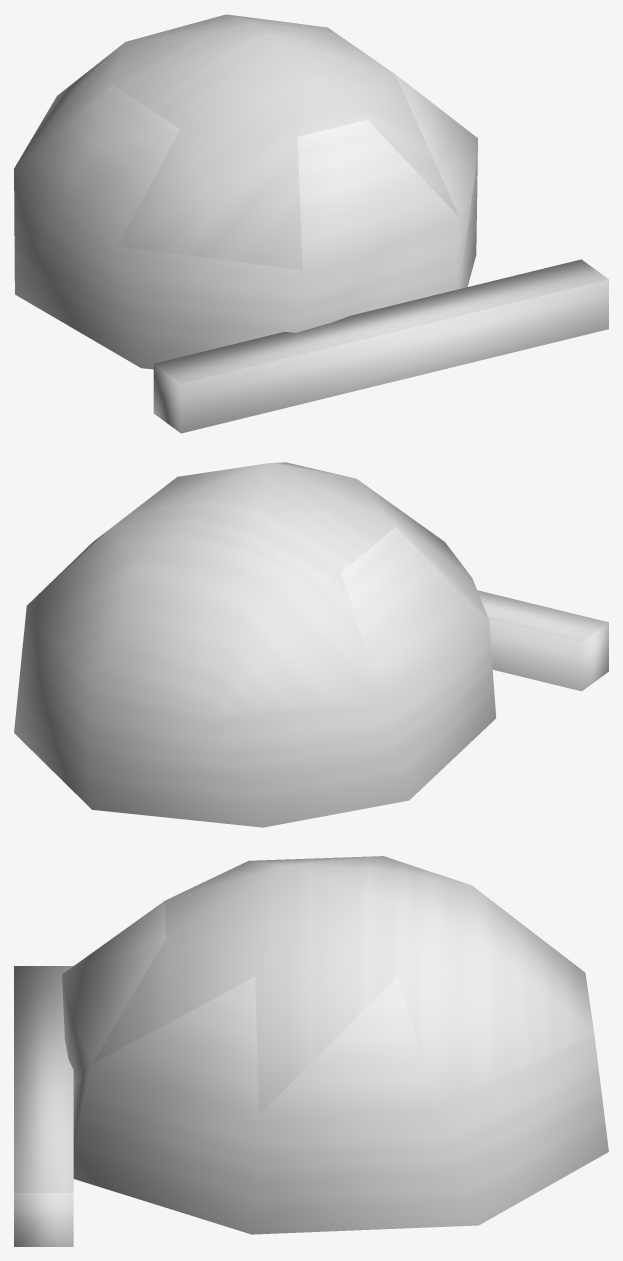
File: helmet.obj
3 renders of one model, top to bottom at view 1: azimuth 30°, elevation 25°; view 2: azimuth 150°, elevation 25°; view 3: azimuth 270°, elevation 25°, orthographic. The views are drawn at different scales.
Visible parts, largest first — view 1: helmet_part_01, helmet_part_02; view 2: helmet_part_01, helmet_part_02; view 3: helmet_part_01, helmet_part_02.
Part boxes in pixels (left/top/right/bottom): helmet_part_01: left=14, top=14, right=477, bottom=369; helmet_part_02: left=153, top=259, right=608, bottom=433; helmet_part_01: left=14, top=462, right=496, bottom=827; helmet_part_02: left=477, top=590, right=608, bottom=691; helmet_part_01: left=62, top=856, right=608, bottom=1234; helmet_part_02: left=14, top=966, right=73, bottom=1246.
Bounding box in the file's own units: 0.36 × 0.2 × 0.399.
